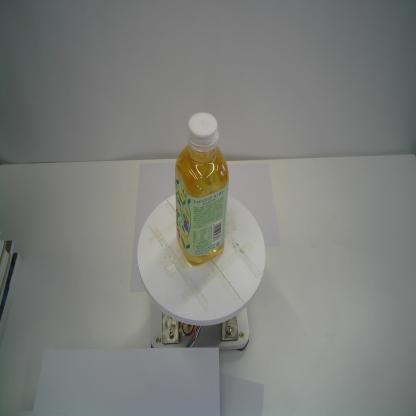Drink: (174, 111, 229, 267)
